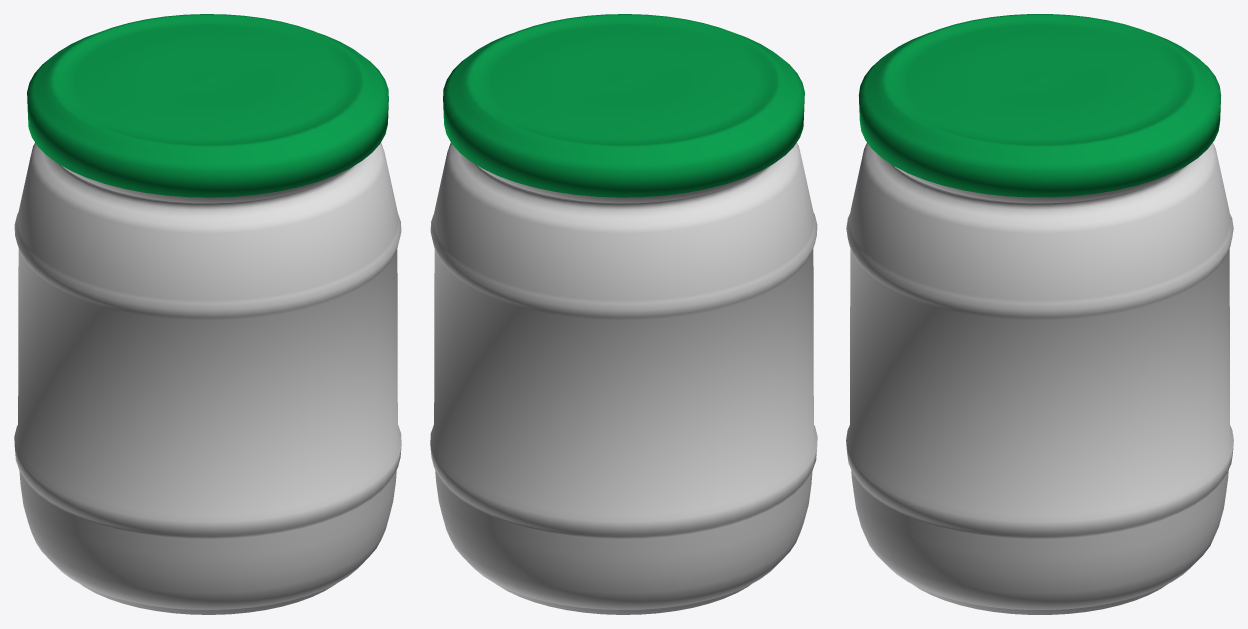
The model's file is Jar.fbx.
3 renders of one model, left to right at view 1: azimuth 30°, elevation 25°; view 2: azimuth 150°, elevation 25°; view 3: azimuth 270°, elevation 25°, orthographic.
Visible parts, largest first — view 1: Plane.001; view 2: Plane.001; view 3: Plane.001.
Part boxes in pixels (x1,y1,x2,y2): Plane.001: [14, 14, 401, 614]; Plane.001: [430, 14, 817, 614]; Plane.001: [846, 14, 1233, 614].
Bounding box in the file's own units: 70.88 × 96.01 × 71.02.
